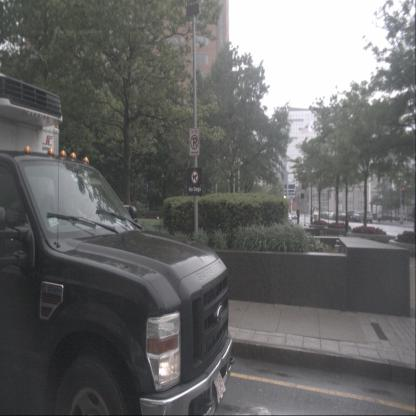human-pedestrian-adult: (296, 208, 300, 224)
vehicle-car: (345, 211, 355, 221), (350, 213, 361, 222), (332, 212, 342, 221), (290, 211, 298, 220), (284, 212, 292, 221), (338, 213, 347, 221), (318, 211, 327, 219), (311, 211, 319, 219), (328, 212, 336, 219), (323, 212, 331, 219)
vehicle-truck: (0, 73, 233, 416), (359, 211, 373, 223)
